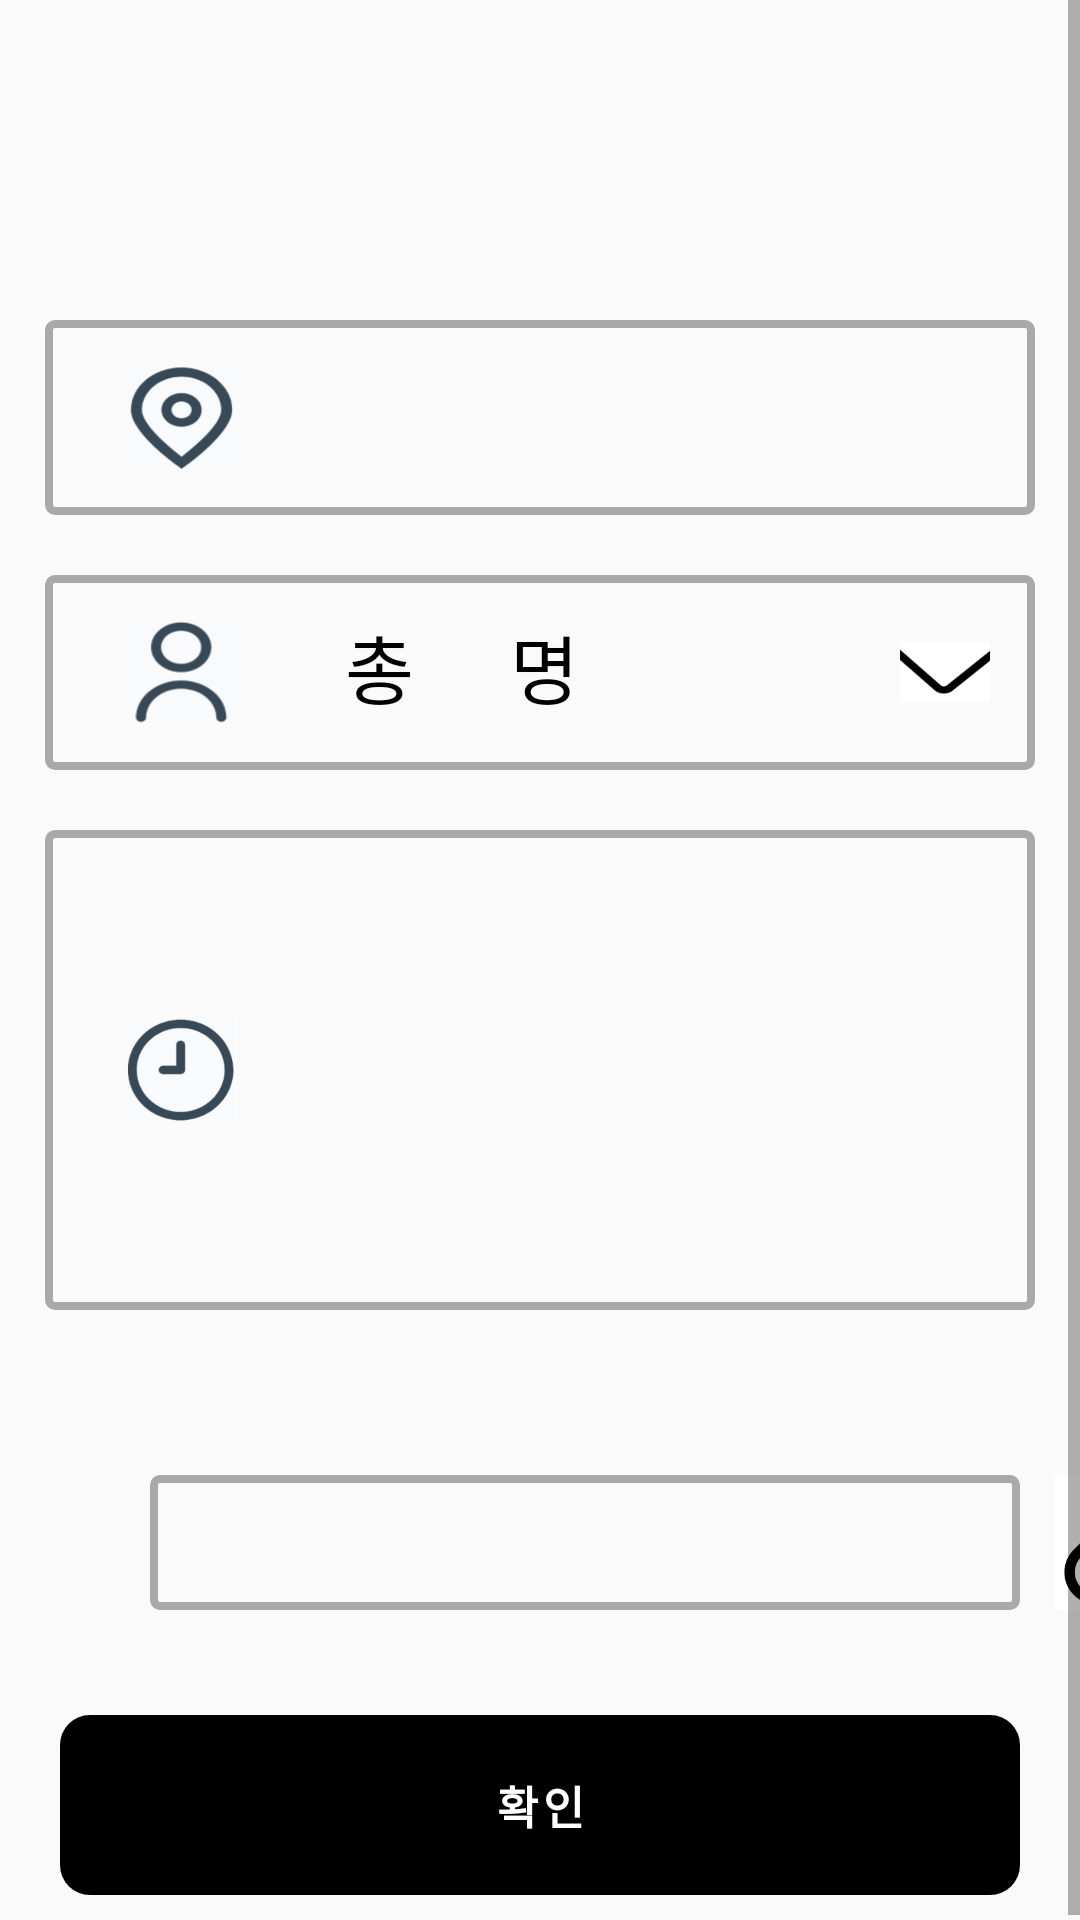

Screen size 1080×1920. Icon name, then its center in pixels as (x=x, y=y):
arrow: (x=945, y=671)
clock: (x=181, y=1070)
place: (x=181, y=418)
